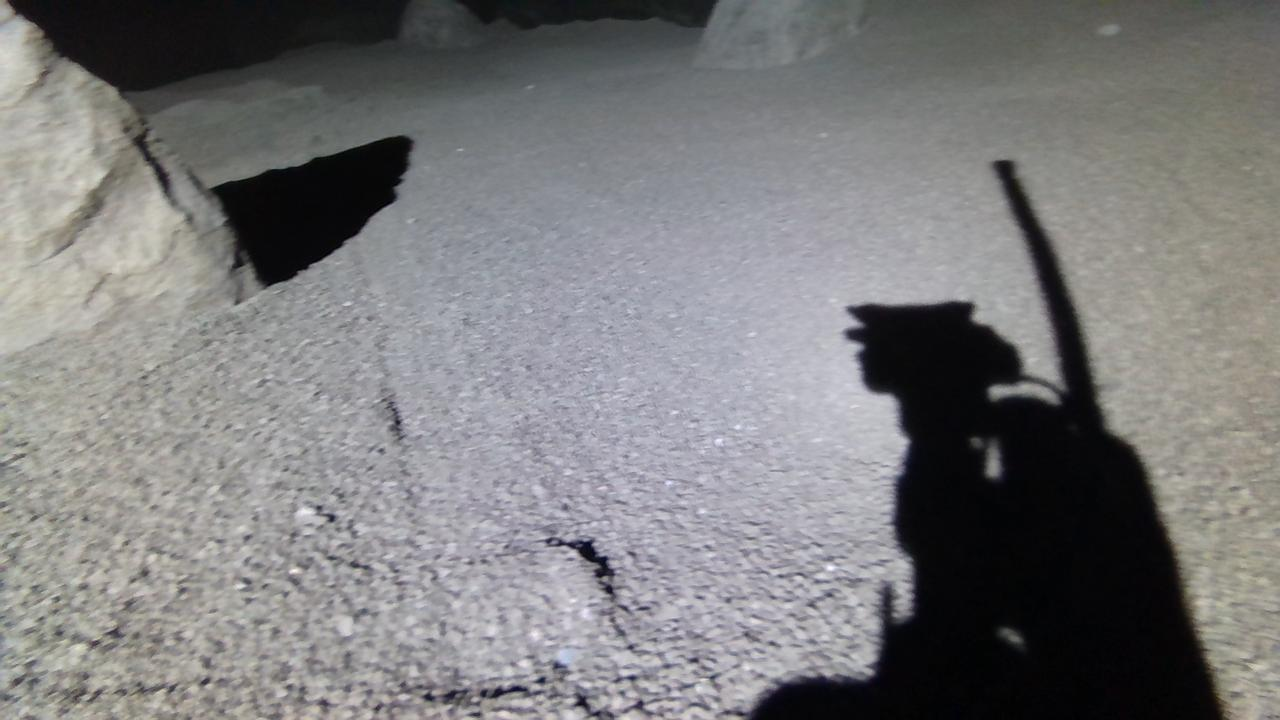rock: (694, 0, 867, 67), (398, 0, 486, 46)
